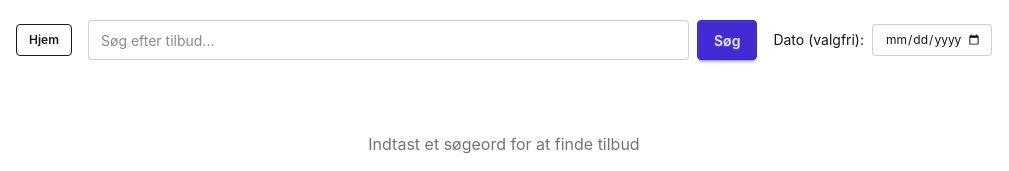
Test: SearchPage › shows no-results message when search returns empty
Type "xyz" into the field with placeholder "Søg efter tilbud..." at (388, 40), box [88, 20, 689, 60]
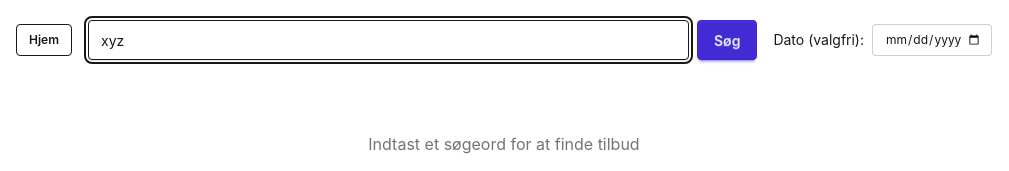
Click the button "Søg" at (727, 40), box [697, 20, 757, 60]
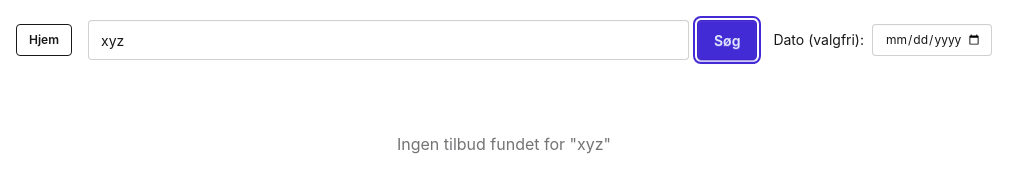
Expected: the text "Ingen tilbud fundet for \"xyz\"" is shown, [397, 134, 611, 154]
